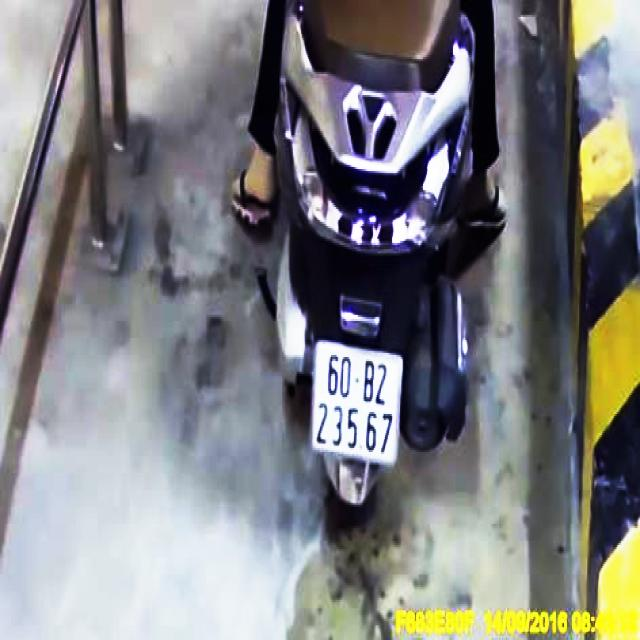license_plate: (312, 344, 404, 466)
